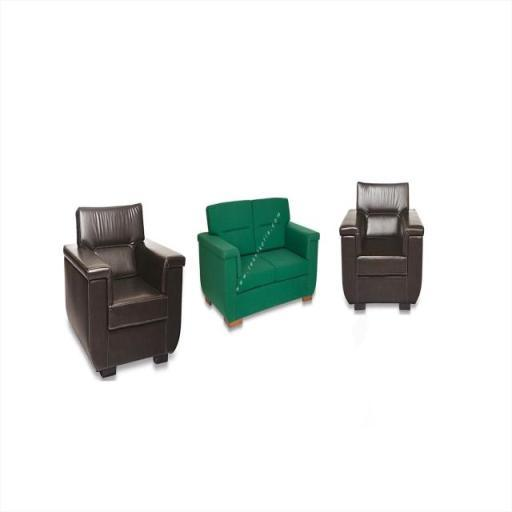sofa: (189, 150, 346, 416), (48, 190, 188, 420)
